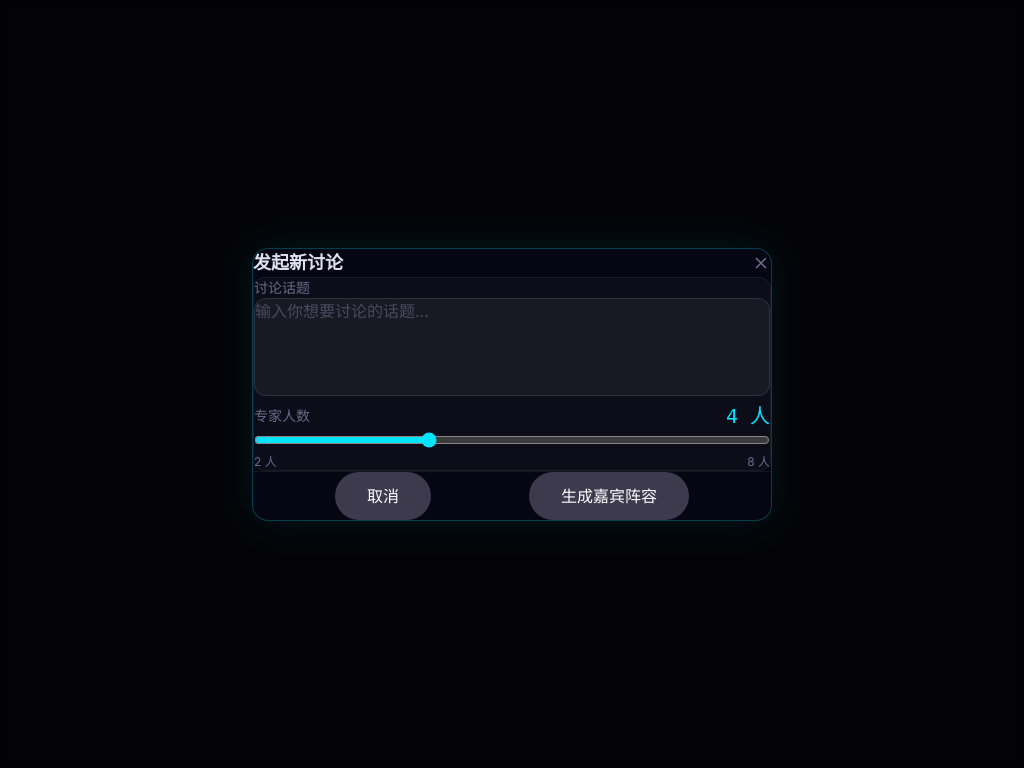
Test: CreateDiscussionModal › shows error message when API fails
In the text box with placeholder "输入你想要讨论的话题...": (512, 346) [254,298,770,396], type "Test topic"
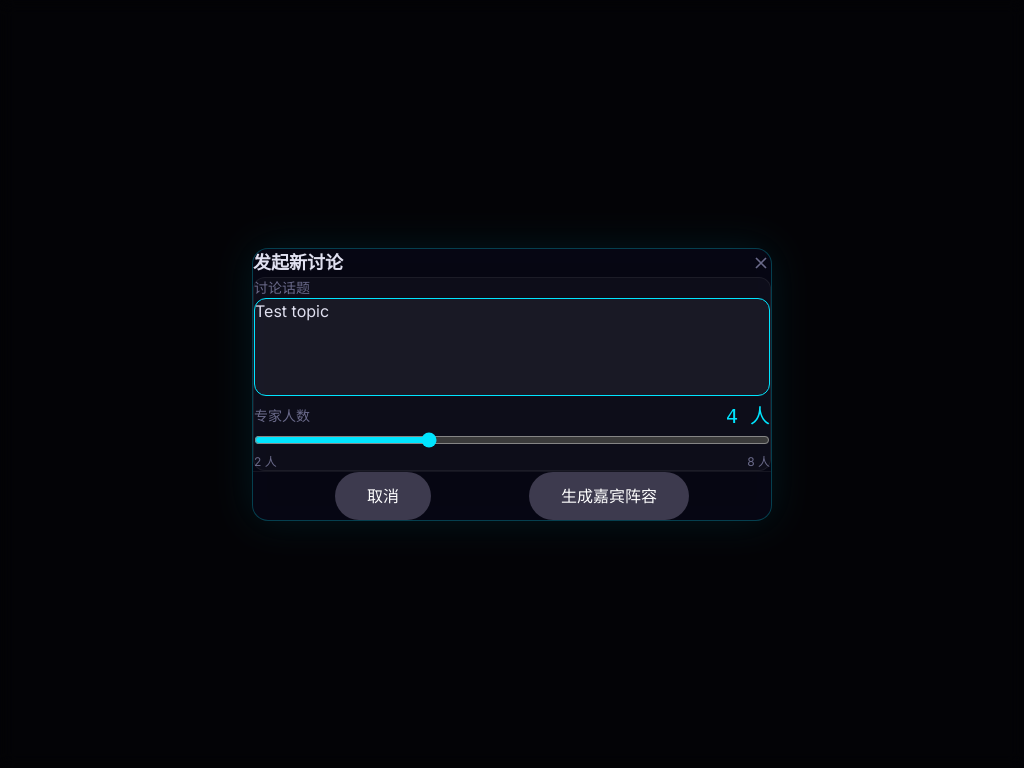
Click the button "生成嘉宾阵容": (609, 496) [529,472,689,520]
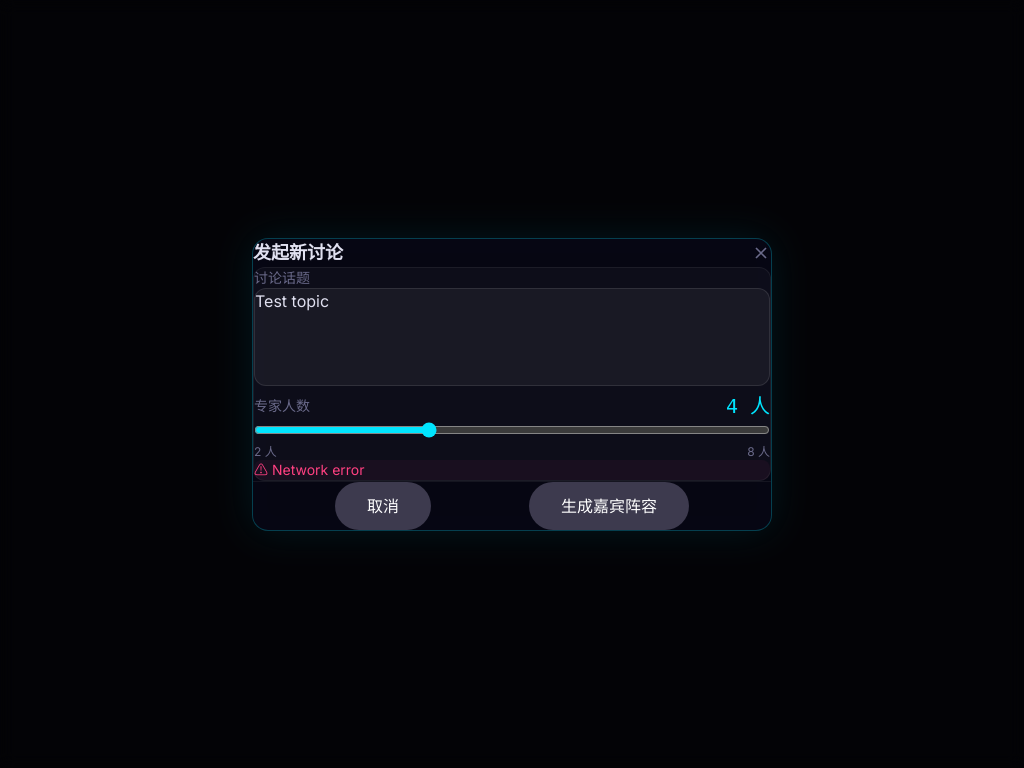
Check: the text "⚠ Network error" is shown, box [254,460,770,480]
